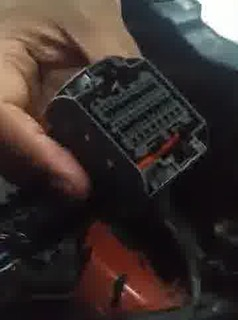connector: (43, 55, 209, 202)
